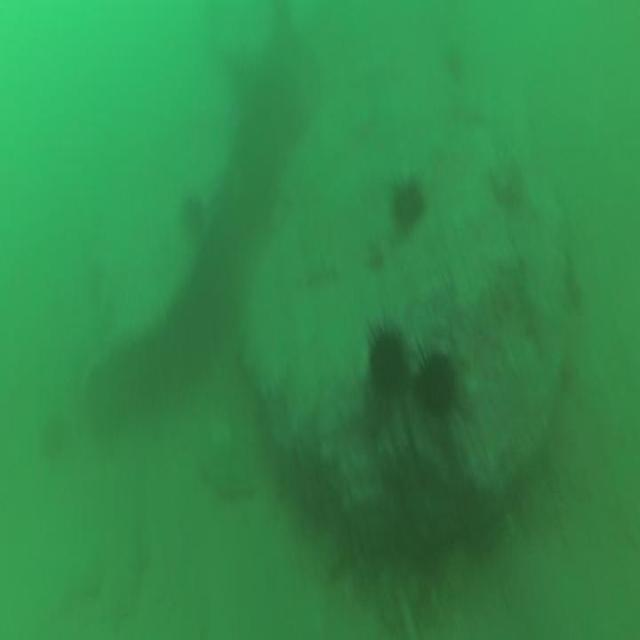echinus: (412, 340, 458, 430), (364, 318, 406, 409), (386, 170, 429, 242), (182, 185, 205, 242)
